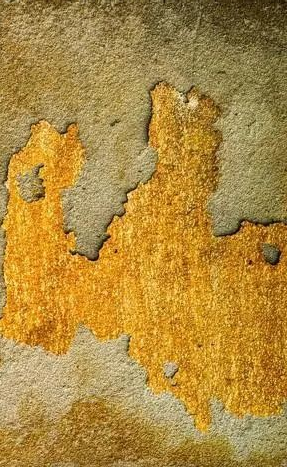Corrosion: (1, 79, 287, 431)
